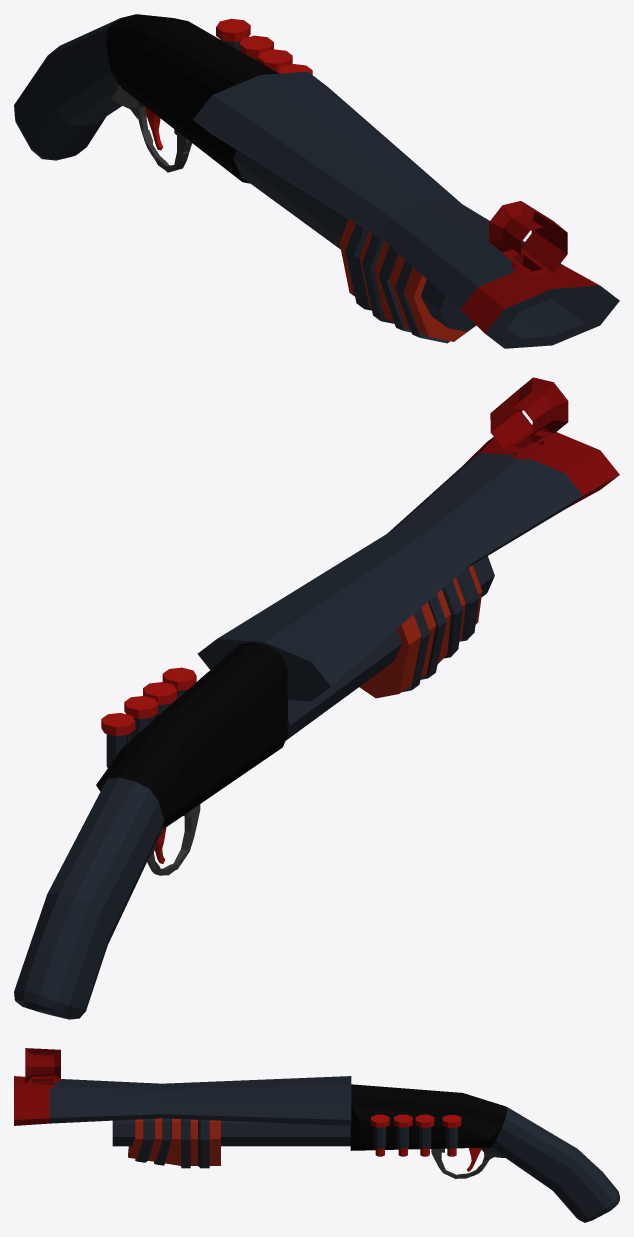
Rendered from Shotgun.glb.
3 renders of one model, top to bottom at view 1: azimuth 30°, elevation 25°; view 2: azimuth 150°, elevation 25°; view 3: azimuth 270°, elevation 25°, orthographic. The views are drawn at different scales.
Parts seen in each view (by area): view 1: Top Barrel, Main, Handle, Forearm, Bottom Barrel, Scope, Top Barrel.001, Trigger, Bullet.003, Bullet.002, Bullet.001; view 2: Top Barrel, Handle, Main, Forearm, Scope, Bottom Barrel, Top Barrel.001, Trigger; view 3: Top Barrel, Main, Handle, Forearm, Bottom Barrel, Top Barrel.001, Scope, Trigger, Bullet.002, Bullet.003, Bullet.001, Bullet (+4 smaller).
Boxes of the visible parts, left/top/right/bottom form: Top Barrel: left=193, top=71, right=619, bottom=348; Main: left=106, top=14, right=278, bottom=183; Handle: left=14, top=18, right=122, bottom=160; Forearm: left=339, top=219, right=475, bottom=343; Bottom Barrel: left=233, top=150, right=476, bottom=331; Scope: left=489, top=201, right=567, bottom=279; Top Barrel.001: left=460, top=266, right=599, bottom=333; Trigger: left=111, top=85, right=192, bottom=172; Bullet.003: left=216, top=18, right=250, bottom=42; Bullet.002: left=239, top=35, right=273, bottom=58; Bullet.001: left=258, top=49, right=292, bottom=72; Top Barrel: left=197, top=452, right=582, bottom=701; Handle: left=14, top=777, right=163, bottom=1019; Main: left=96, top=642, right=287, bottom=828; Forearm: left=359, top=565, right=482, bottom=698; Scope: left=490, top=377, right=568, bottom=460; Bottom Barrel: left=286, top=556, right=494, bottom=740; Top Barrel.001: left=463, top=432, right=619, bottom=508; Trigger: left=147, top=804, right=200, bottom=875; Top Barrel: left=49, top=1076, right=351, bottom=1125; Main: left=350, top=1084, right=507, bottom=1150; Handle: left=491, top=1107, right=619, bottom=1222; Forearm: left=128, top=1118, right=220, bottom=1168; Bottom Barrel: left=112, top=1119, right=350, bottom=1146; Top Barrel.001: left=14, top=1076, right=49, bottom=1125; Scope: left=25, top=1048, right=60, bottom=1088; Trigger: left=431, top=1147, right=504, bottom=1178; Bullet.002: left=415, top=1114, right=434, bottom=1156; Bullet.003: left=442, top=1115, right=461, bottom=1156; Bullet.001: left=394, top=1114, right=412, bottom=1156; Bullet: left=371, top=1114, right=389, bottom=1156.
Size of the model in its own units: 0.2101 by 0.4099 by 1.35.
1 material, 1 textured.
